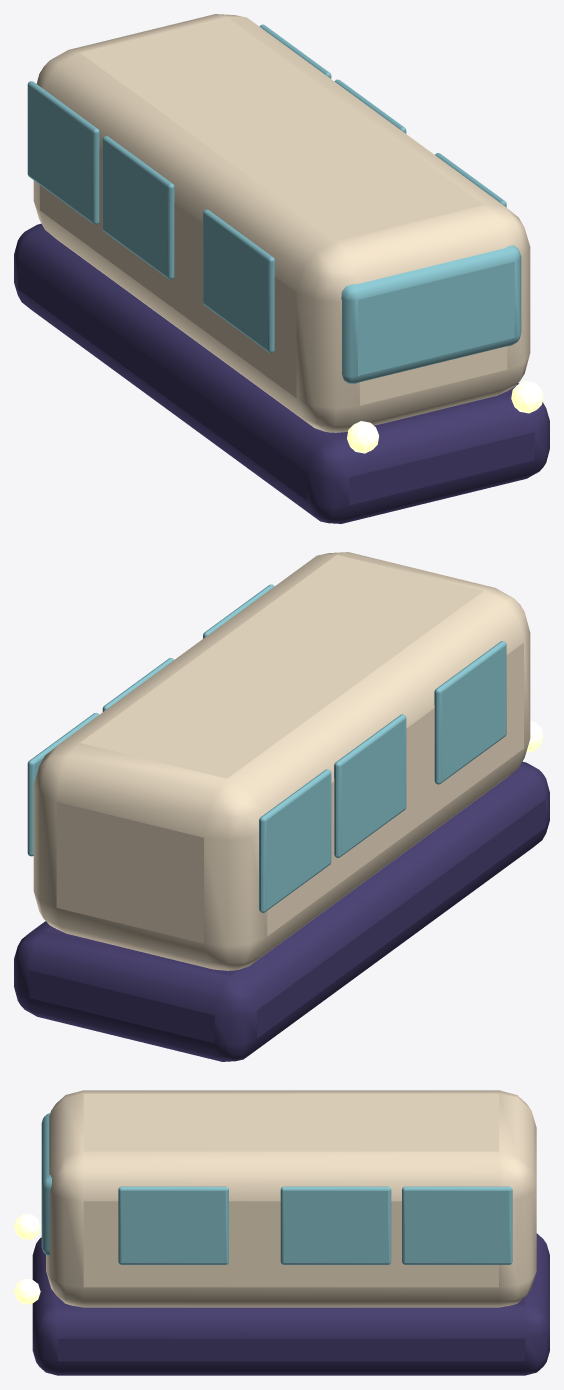
File: train.glb
3 renders of one model, top to bottom at view 1: azimuth 30°, elevation 25°; view 2: azimuth 150°, elevation 25°; view 3: azimuth 270°, elevation 25°, orthographic. The views are drawn at different scales.
Visible parts, largest first — view 1: Batch_train_CITY / cream, Batch_train_CITY / purple, Batch_train_CITY / glass, Batch_train_CITY / warm; view 2: Batch_train_CITY / cream, Batch_train_CITY / purple, Batch_train_CITY / glass; view 3: Batch_train_CITY / cream, Batch_train_CITY / purple, Batch_train_CITY / glass, Batch_train_CITY / warm.
Boxes of the visible parts, x1=… form: Batch_train_CITY / cream: x1=33, y1=14, x2=530, y2=432; Batch_train_CITY / purple: x1=14, y1=223, x2=549, y2=523; Batch_train_CITY / glass: x1=27, y1=24, x2=521, y2=383; Batch_train_CITY / warm: x1=347, y1=381, x2=543, y2=453; Batch_train_CITY / cream: x1=33, y1=552, x2=530, y2=970; Batch_train_CITY / purple: x1=14, y1=761, x2=549, y2=1061; Batch_train_CITY / glass: x1=27, y1=584, x2=506, y2=912; Batch_train_CITY / cream: x1=46, y1=1090, x2=536, y2=1307; Batch_train_CITY / purple: x1=32, y1=1233, x2=549, y2=1375; Batch_train_CITY / glass: x1=41, y1=1113, x2=512, y2=1264; Batch_train_CITY / warm: x1=14, y1=1214, x2=40, y2=1304.
Size of the model in its own units: 1.25 by 1.33 by 3.01.
